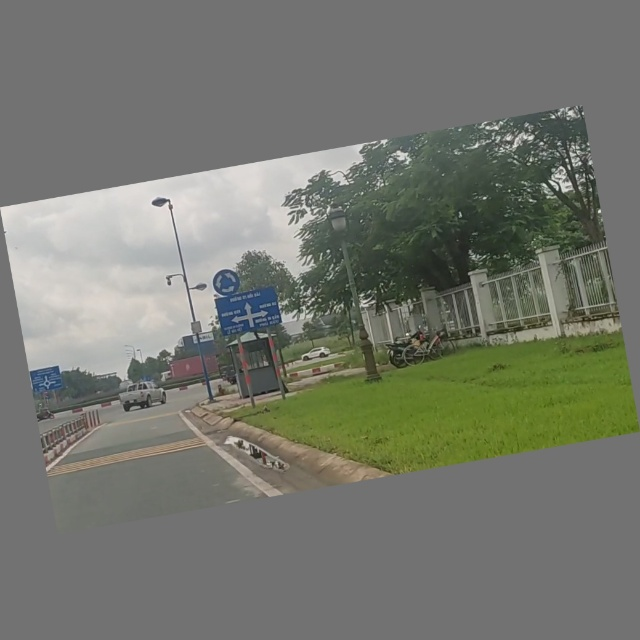R.303: (207, 268, 243, 298)
